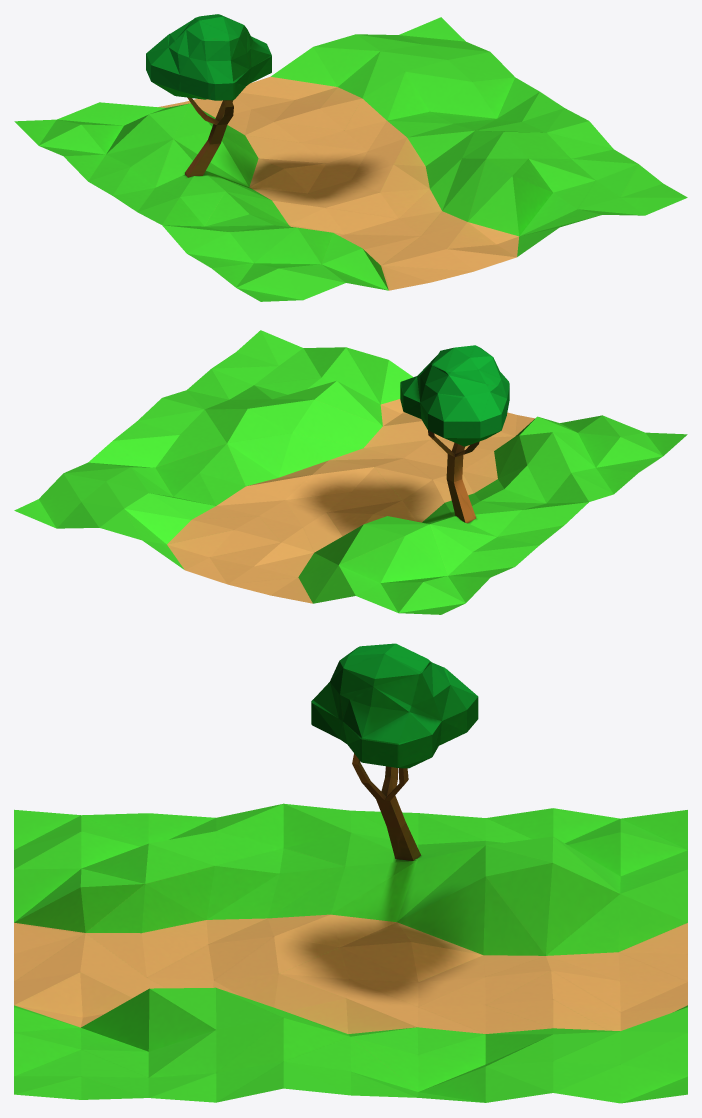
File: road1010.glb
The picture shows the model from 3 angles, top to bottom: view 1: azimuth 30°, elevation 25°; view 2: azimuth 150°, elevation 25°; view 3: azimuth 270°, elevation 25°; orthographic projection. The views are drawn at different scales.
Parts seen in each view (by area): view 1: zPlain_Straight.001; view 2: zPlain_Straight.001; view 3: zPlain_Straight.001.
Boxes of the visible parts, x1,y1,x2,y2 form: zPlain_Straight.001: (14,14,687,301); zPlain_Straight.001: (14,330,687,614); zPlain_Straight.001: (14,643,687,1103).
Bounding box in the file's own units: 10 × 4.18 × 10.
Materials: 4 (4 with a texture image).
